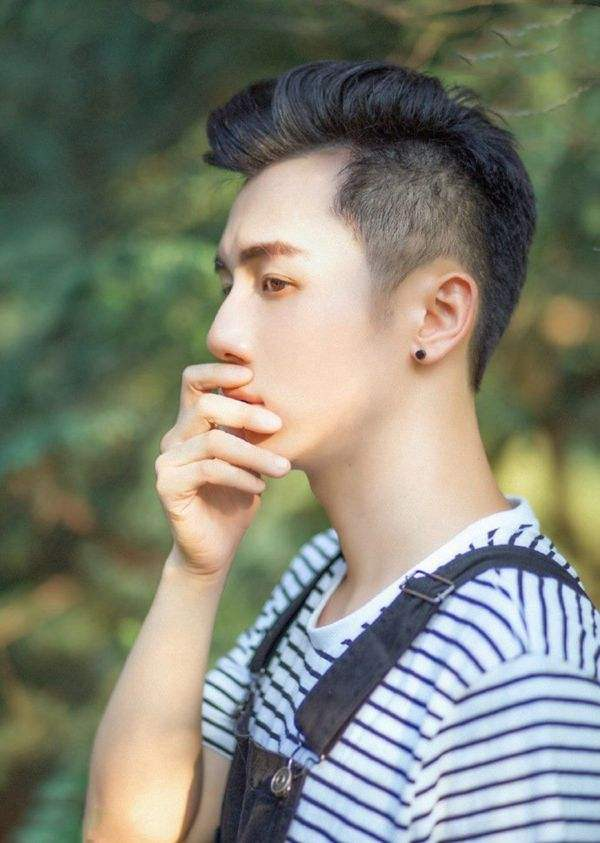person: (129, 76, 589, 758)
